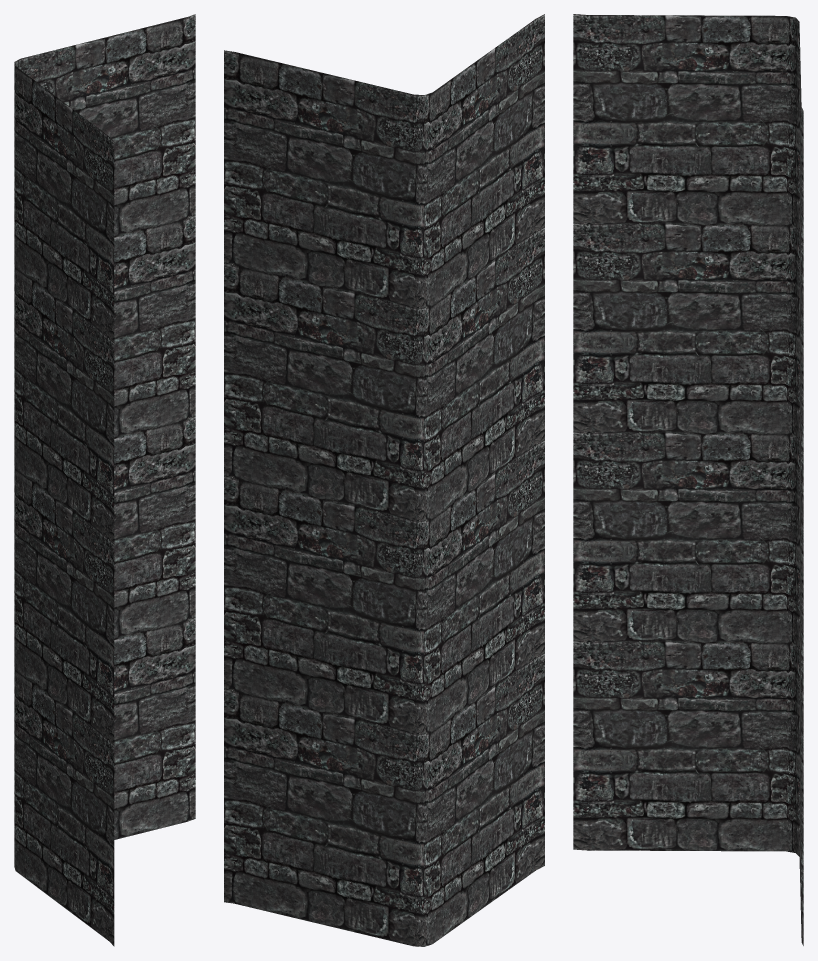
Rendered from wallBlockICS.fbx.
The picture shows the model from 3 angles, left to right: view 1: azimuth 30°, elevation 25°; view 2: azimuth 150°, elevation 25°; view 3: azimuth 270°, elevation 25°; orthographic projection. The views are drawn at different scales.
Visible parts, largest first — view 1: polySurface33; view 2: polySurface33; view 3: polySurface33.
Boxes of the visible parts, x1=… form: polySurface33: x1=14, y1=14, x2=195, y2=946; polySurface33: x1=224, y1=14, x2=544, y2=946; polySurface33: x1=573, y1=14, x2=803, y2=945.
Size of the model in its own units: 2 by 8 by 2.
